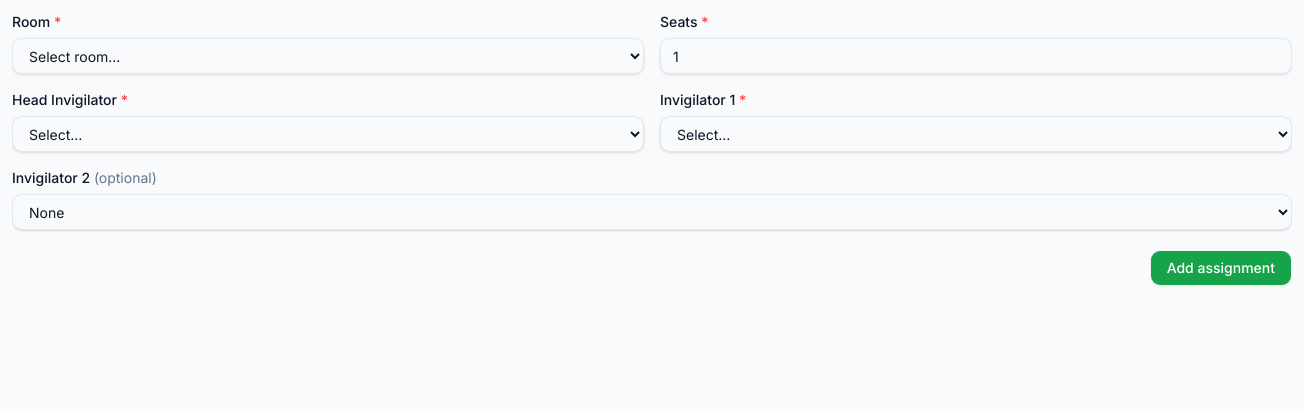
Scenario: AssignmentForm › conflict warnings › shows OVER_CAPACITY warning when seats exceed room capacity
Pick the small room (max 10 seats)
Select "102 (cap 10)" in the dropdown labelled "Room *". click: x=328, y=56
box: 12,38 -> 644,74
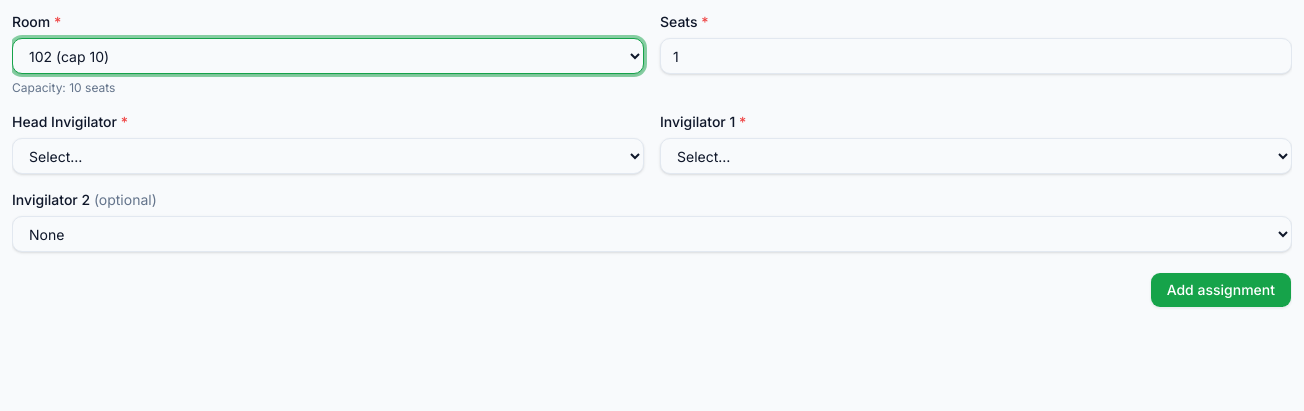
Type a value that exceeds capacity
Replace the text in the number field labelled "Seats *" with "25". click: x=976, y=56
box: 660,38 -> 1292,74
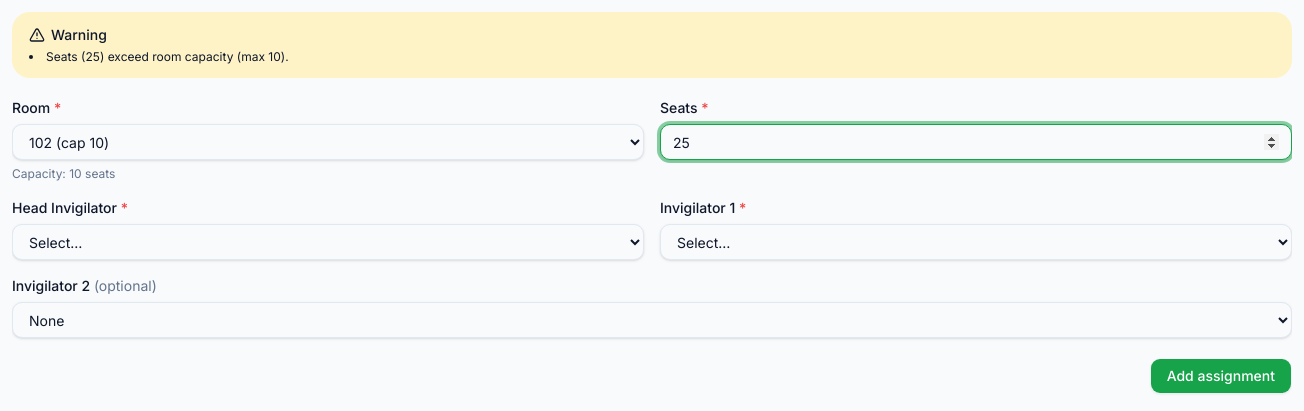
Now the message reads "Warning Seats (25) exceed room capacity (max 10).", box 46,49 -> 289,64
